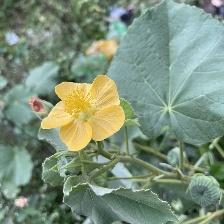indian mallow: (40, 73, 129, 154)
